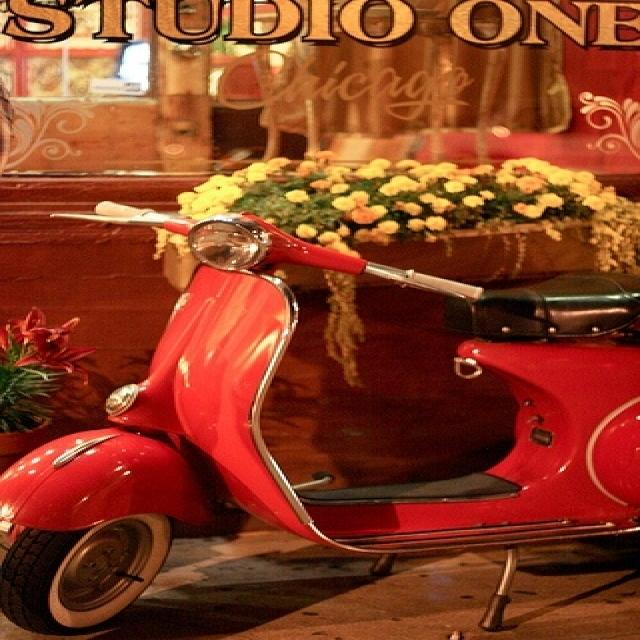scooter: (0, 204, 639, 634)
